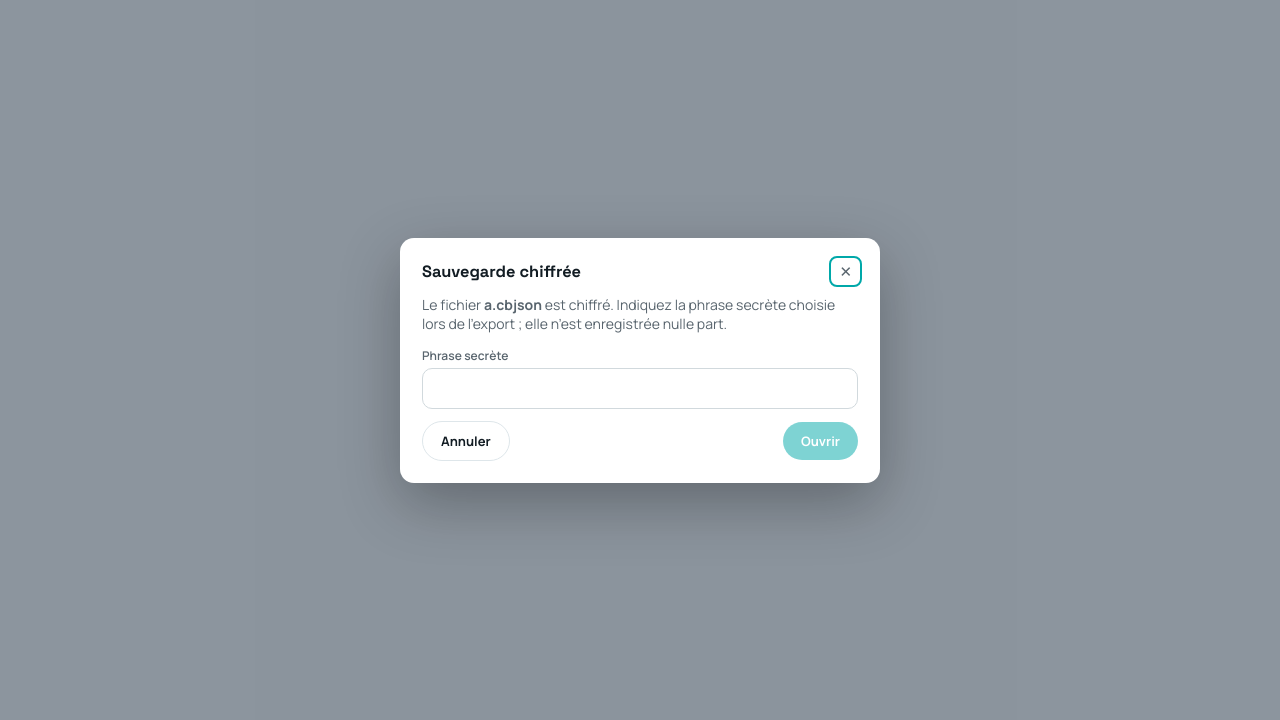
sauvegarde ouverte par double-clic › demande la phrase secrète d’une sauvegarde chiffrée
Type "phrase de passe" into the password field labelled "Phrase secrète" at {"x": 640, "y": 388}, box [422,368,858,408]
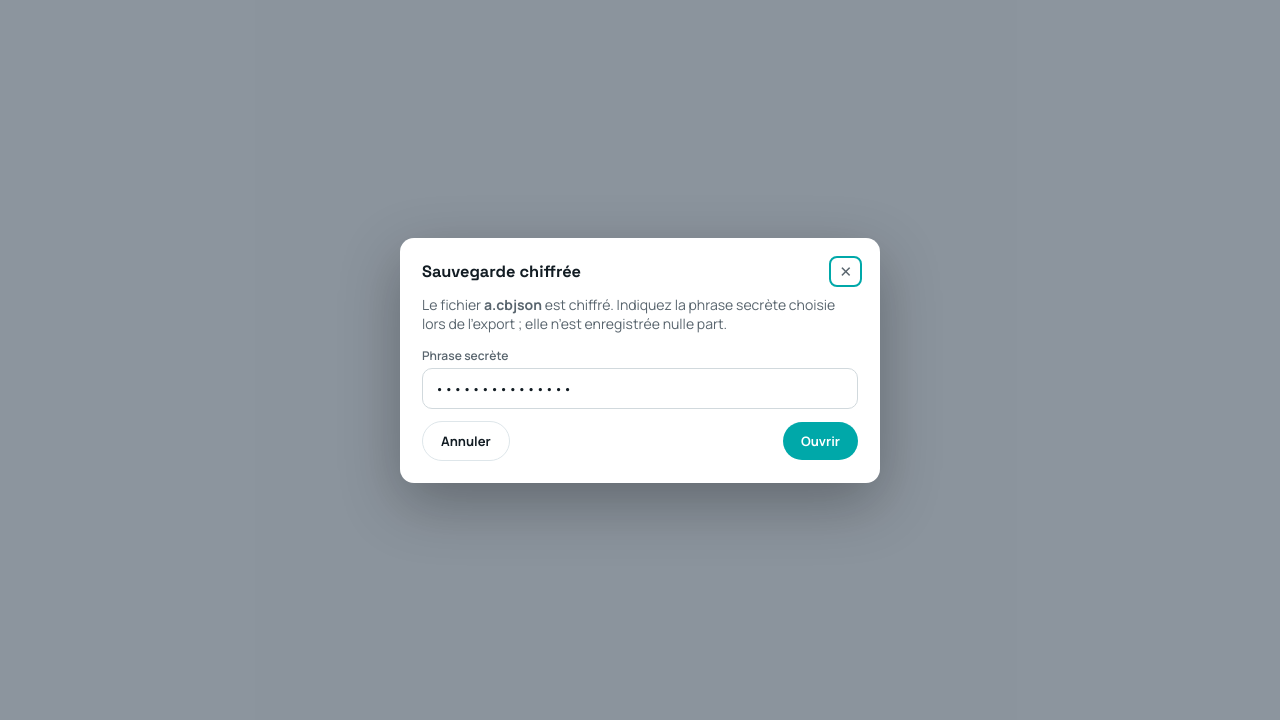
Click the button "Ouvrir" at {"x": 820, "y": 440}, box [783,422,858,460]
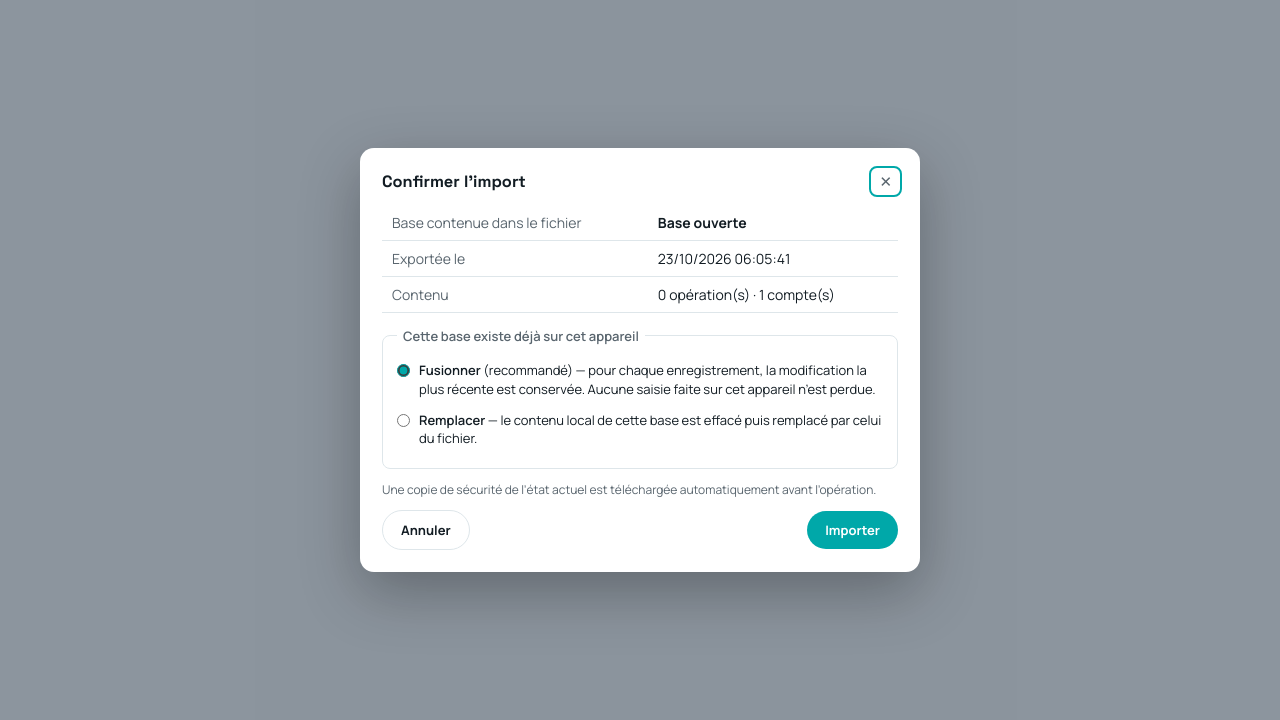
Check: the dialog "Confirmer l’import" is shown, box [360,148,920,572]
